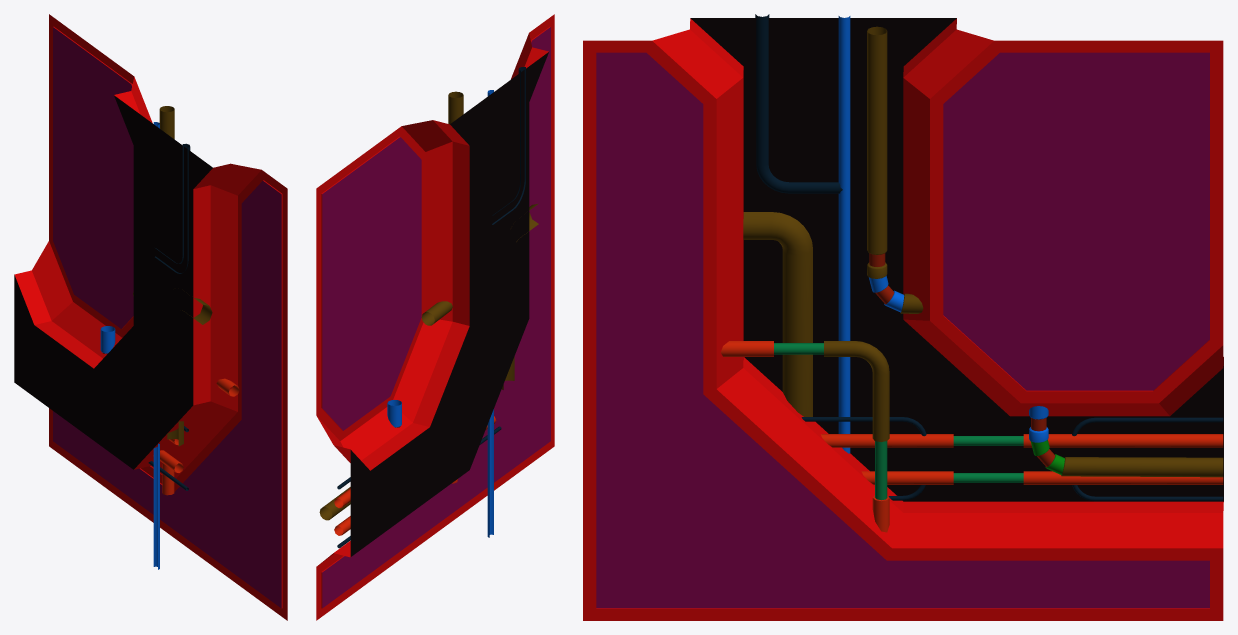
File: OBJ_6_Mur.fbx
3 renders of one model, left to right at view 1: azimuth 30°, elevation 25°; view 2: azimuth 150°, elevation 25°; view 3: azimuth 270°, elevation 25°, orthographic. The views are drawn at different scales.
Parts seen in each view (by area): view 1: OBJ_6_Mur; view 2: OBJ_6_Mur; view 3: OBJ_6_Mur.
Boxes of the visible parts, x1,y1,x2,y2 form: OBJ_6_Mur: (14,14,287,620); OBJ_6_Mur: (316,14,554,620); OBJ_6_Mur: (583,14,1223,620).
Bounding box in the file's own units: 103 × 1236 × 1201.
